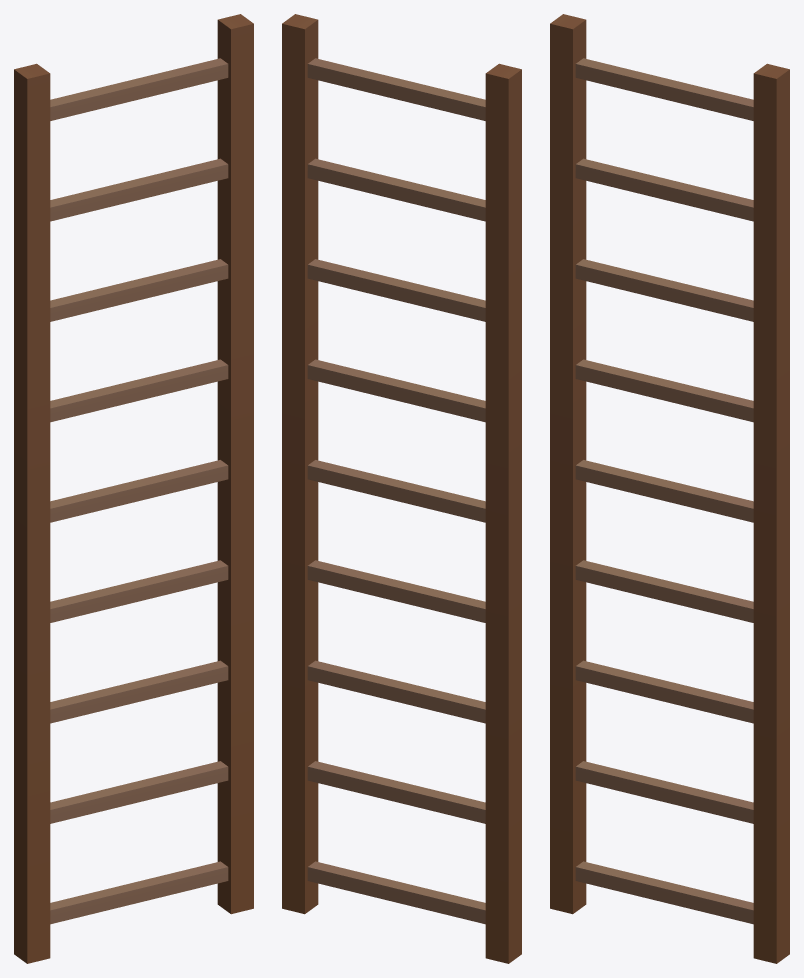
File: vertical_ladder.fbx
The picture shows the model from 3 angles, left to right: view 1: azimuth 30°, elevation 25°; view 2: azimuth 150°, elevation 25°; view 3: azimuth 330°, elevation 25°; orthographic projection.
Visible parts, largest first — view 1: vertical ladder; view 2: vertical ladder; view 3: vertical ladder.
Boxes of the visible parts, x1,y1,x2,y2 form: vertical ladder: (14,14,253,963); vertical ladder: (282,14,521,963); vertical ladder: (550,14,789,963).
Bounding box in the file's own units: 201 × 749 × 20.34.
